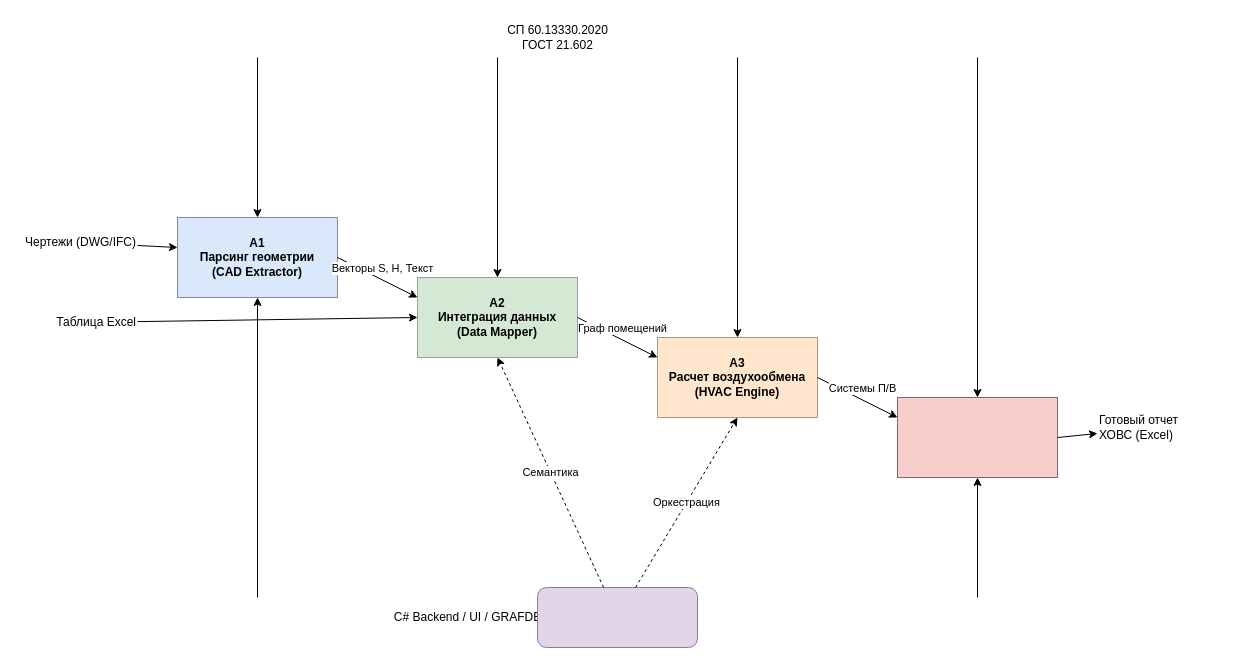
Some shapes in this 1234 by 665 pixel diagram are drawn without their labels. Each missing label, with the box of its shape:
A4 Генерация ХОВС (Excel Generator): (896, 396, 1058, 478)
Микросервис LLM (DeepSeek / REST API): (536, 586, 698, 648)
